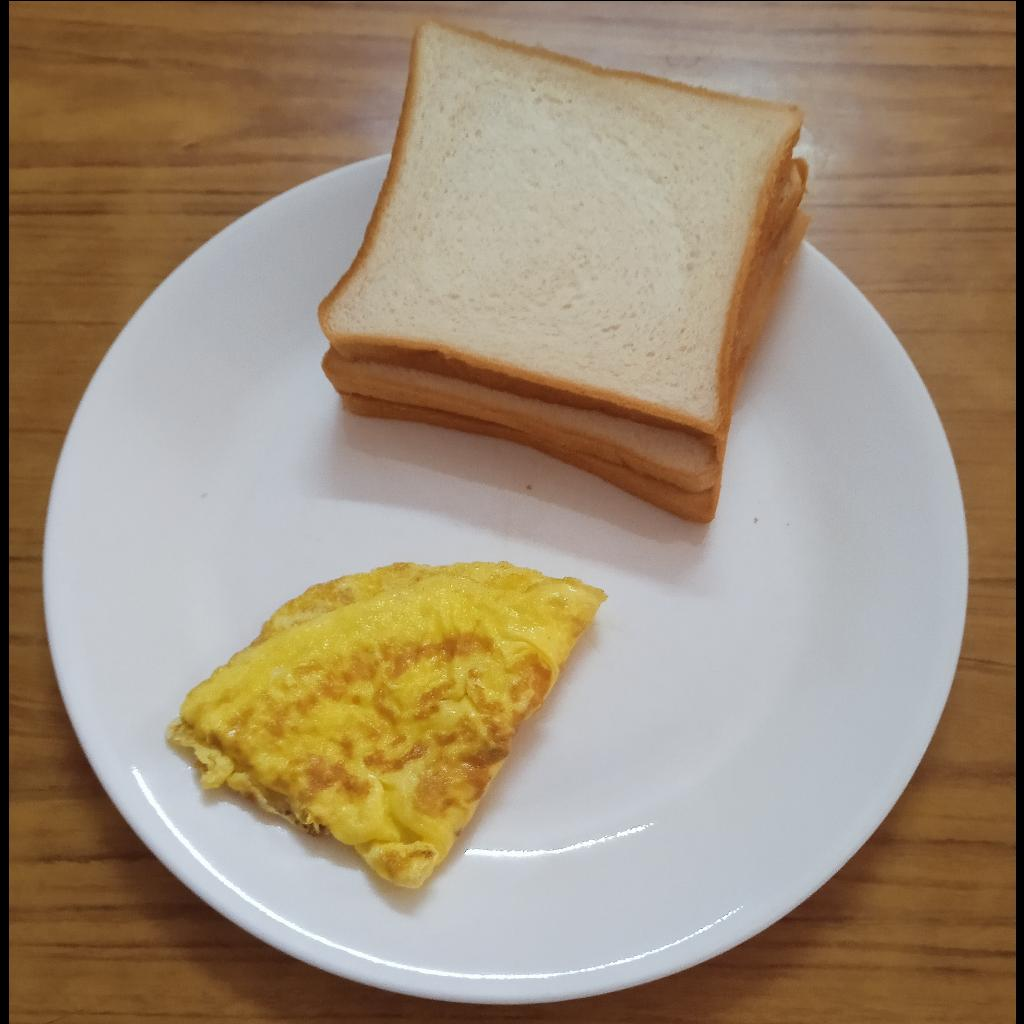bread: (319, 16, 811, 525)
egg-poached: (167, 562, 603, 890)
